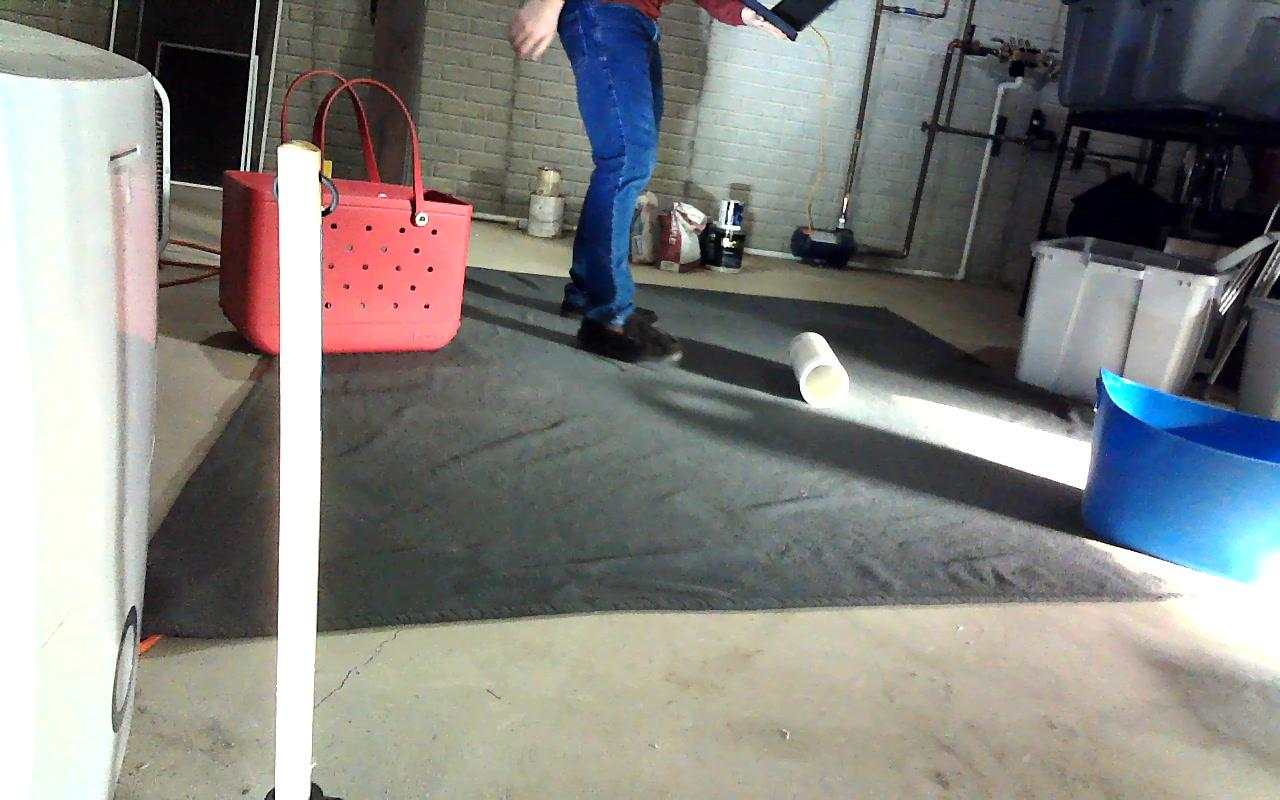coral: (789, 331, 848, 404)
